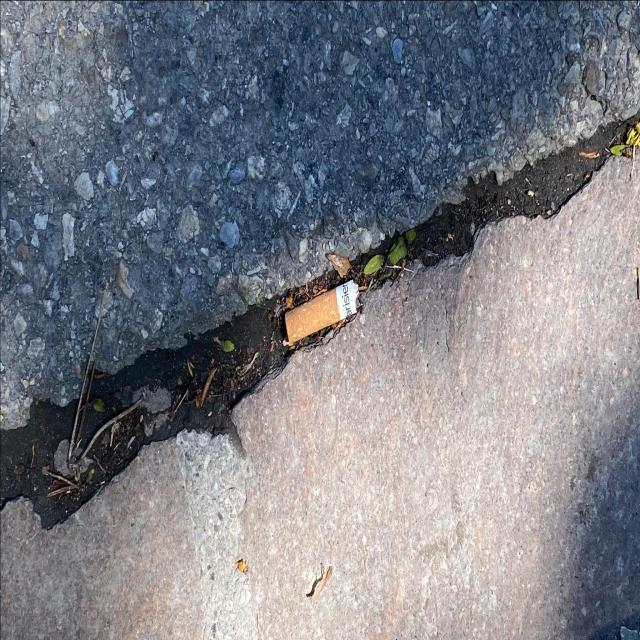other waste: (284, 276, 360, 345)
